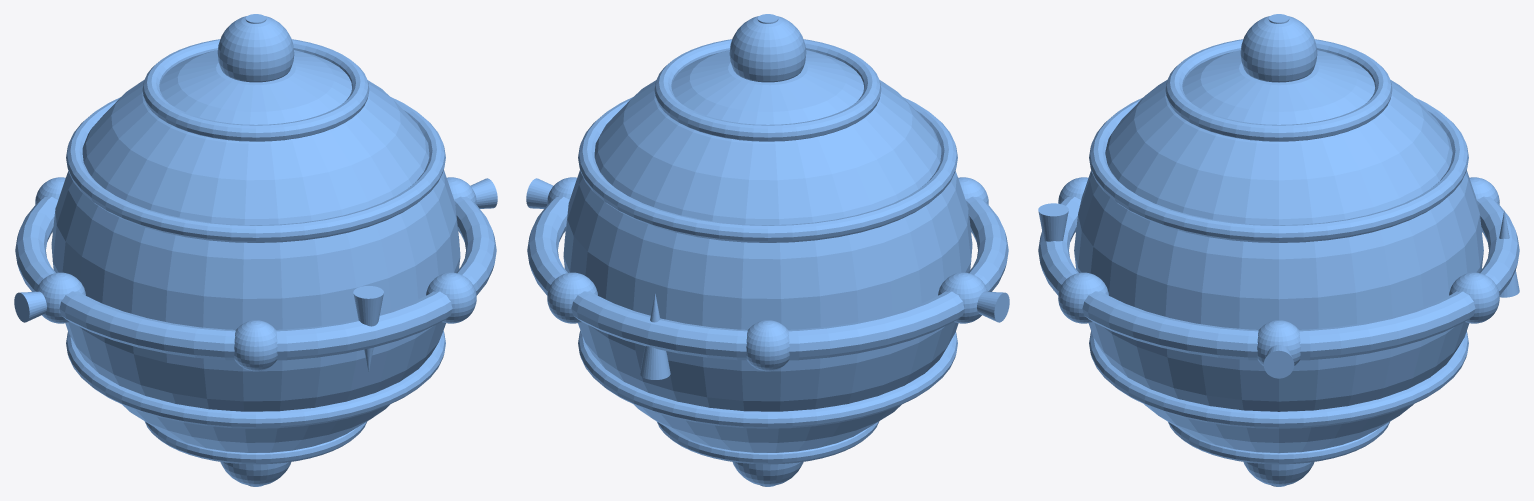
3 renders of one model, left to right at view 1: azimuth 30°, elevation 25°; view 2: azimuth 150°, elevation 25°; view 3: azimuth 270°, elevation 25°, orthographic.
Parts seen in each view (by area): view 1: Sphere, Torus, Torus.001, Torus.003, Torus.002, Sphere.007, Torus.004, Sphere.005, Sphere.006, Sphere.004, Sphere.008, Cone.003 (+2 smaller); view 2: Sphere, Torus, Torus.001, Torus.003, Torus.002, Sphere.007, Torus.004, Sphere.003, Sphere.002, Sphere.004, Sphere.008, Cone.001 (+2 smaller); view 3: Sphere, Torus, Torus.001, Torus.003, Torus.002, Sphere.007, Torus.004, Sphere.002, Sphere.006, Sphere.001, Sphere.008, Cone.003 (+1 smaller).
Boxes of the visible parts, x1=… form: Sphere: x1=51, y1=50, x2=460, y2=452; Torus: x1=15, y1=196, x2=496, y2=360; Torus.001: x1=66, y1=97, x2=445, y2=242; Torus.003: x1=66, y1=330, x2=445, y2=428; Torus.002: x1=142, y1=39, x2=369, y2=141; Sphere.007: x1=217, y1=16, x2=294, y2=82; Torus.004: x1=144, y1=421, x2=367, y2=464; Sphere.005: x1=234, y1=320, x2=277, y2=371; Sphere.006: x1=426, y1=272, x2=476, y2=323; Sphere.004: x1=36, y1=272, x2=85, y2=323; Sphere.008: x1=220, y1=462, x2=291, y2=486; Cone.003: x1=353, y1=286, x2=383, y2=372; Sphere: x1=563, y1=50, x2=972, y2=452; Torus: x1=527, y1=196, x2=1008, y2=360; Torus.001: x1=578, y1=97, x2=957, y2=242; Torus.003: x1=578, y1=330, x2=957, y2=428; Torus.002: x1=654, y1=39, x2=881, y2=141; Sphere.007: x1=729, y1=16, x2=806, y2=82; Torus.004: x1=656, y1=421, x2=879, y2=464; Sphere.003: x1=746, y1=320, x2=789, y2=371; Sphere.002: x1=547, y1=272, x2=597, y2=323; Sphere.004: x1=938, y1=272, x2=987, y2=323; Sphere.008: x1=732, y1=462, x2=803, y2=486; Cone.001: x1=640, y1=293, x2=670, y2=379; Sphere: x1=1074, y1=50, x2=1483, y2=453; Torus: x1=1038, y1=196, x2=1519, y2=360; Torus.001: x1=1089, y1=97, x2=1468, y2=242; Torus.003: x1=1089, y1=331, x2=1468, y2=428; Torus.002: x1=1165, y1=39, x2=1392, y2=141; Sphere.007: x1=1240, y1=16, x2=1317, y2=82; Torus.004: x1=1168, y1=422, x2=1389, y2=464; Sphere.002: x1=1449, y1=272, x2=1499, y2=323; Sphere.006: x1=1058, y1=272, x2=1108, y2=323; Sphere.001: x1=1257, y1=320, x2=1300, y2=365; Sphere.008: x1=1243, y1=462, x2=1314, y2=486; Cone.003: x1=1038, y1=203, x2=1068, y2=290.
Size of the model in its own units: 2.11 by 2 by 1.88.
